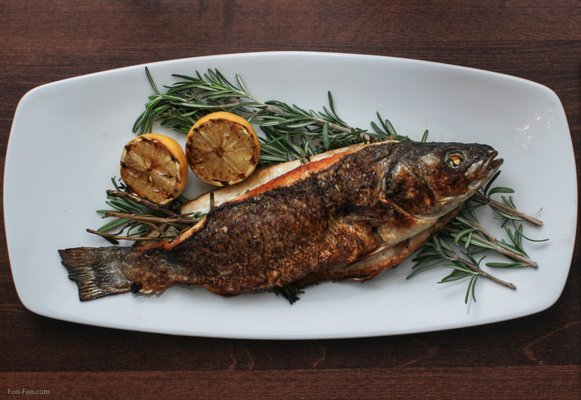curry: (2, 2, 576, 383)
